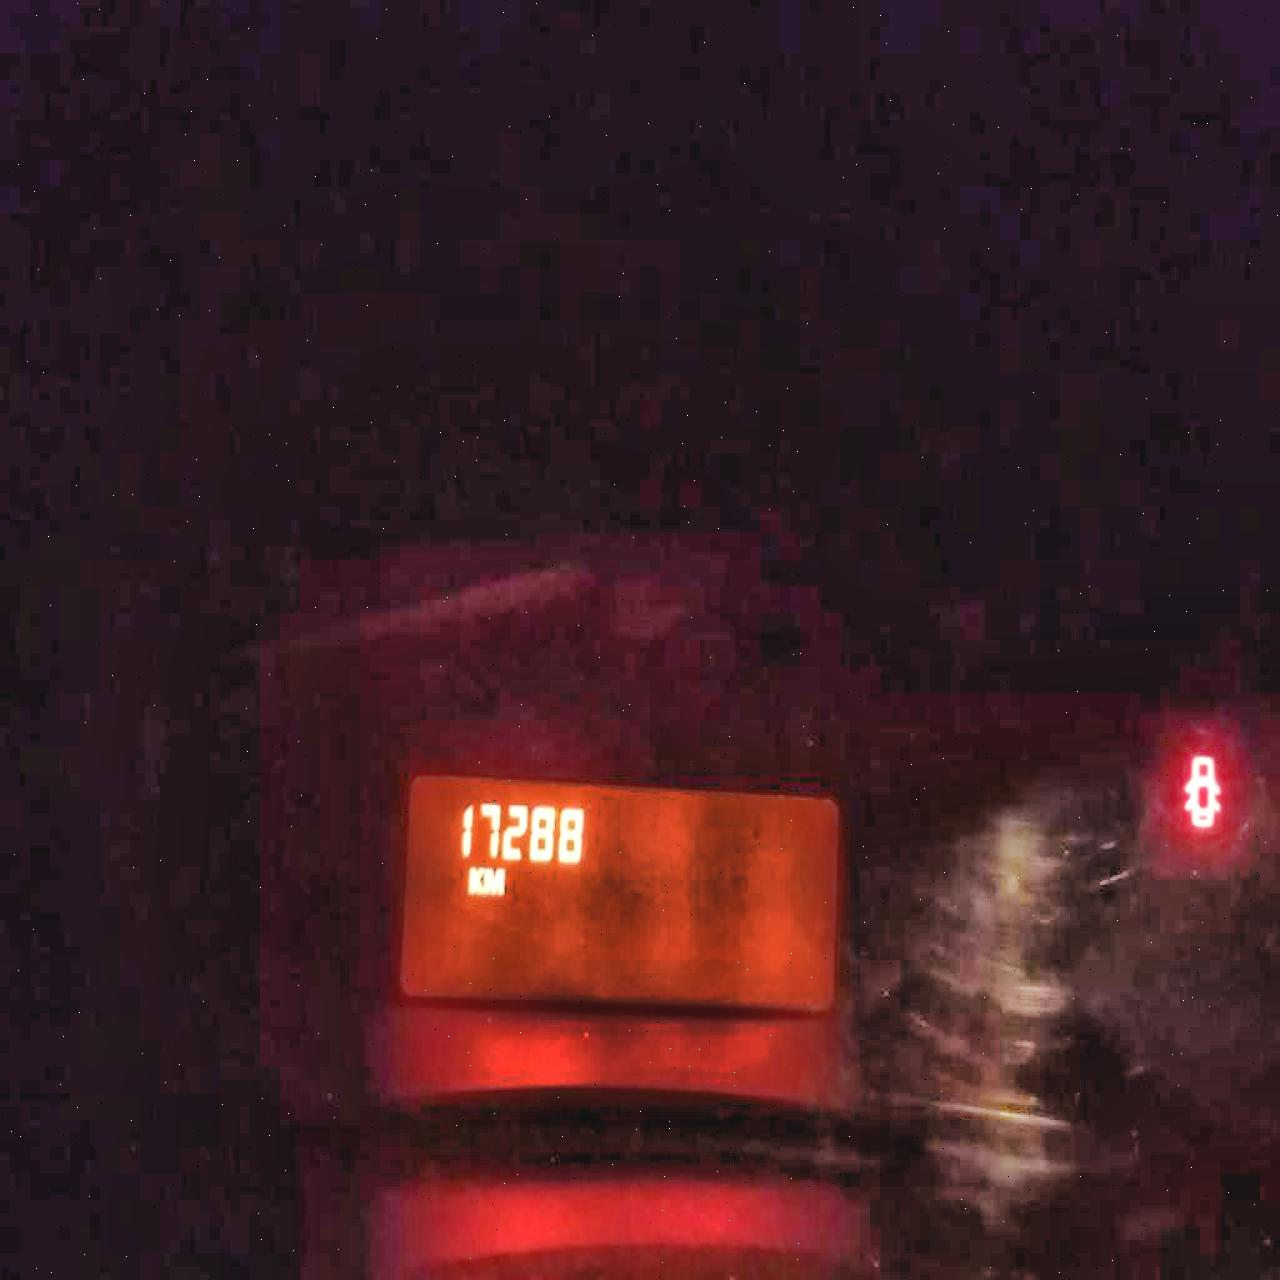1: (455, 799, 474, 858)
2: (501, 801, 527, 862)
7: (476, 799, 498, 860)
8: (554, 803, 584, 865), (529, 803, 554, 864)
X: (483, 863, 505, 897), (465, 863, 483, 897)
odometer: (390, 765, 845, 1020)
